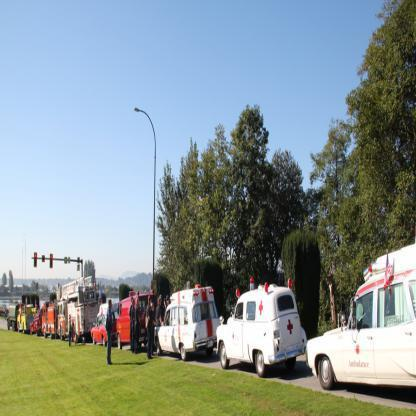Ambulance - v1 Ambulance last generate: (305, 243, 415, 389), (216, 276, 308, 379), (153, 281, 225, 359)
